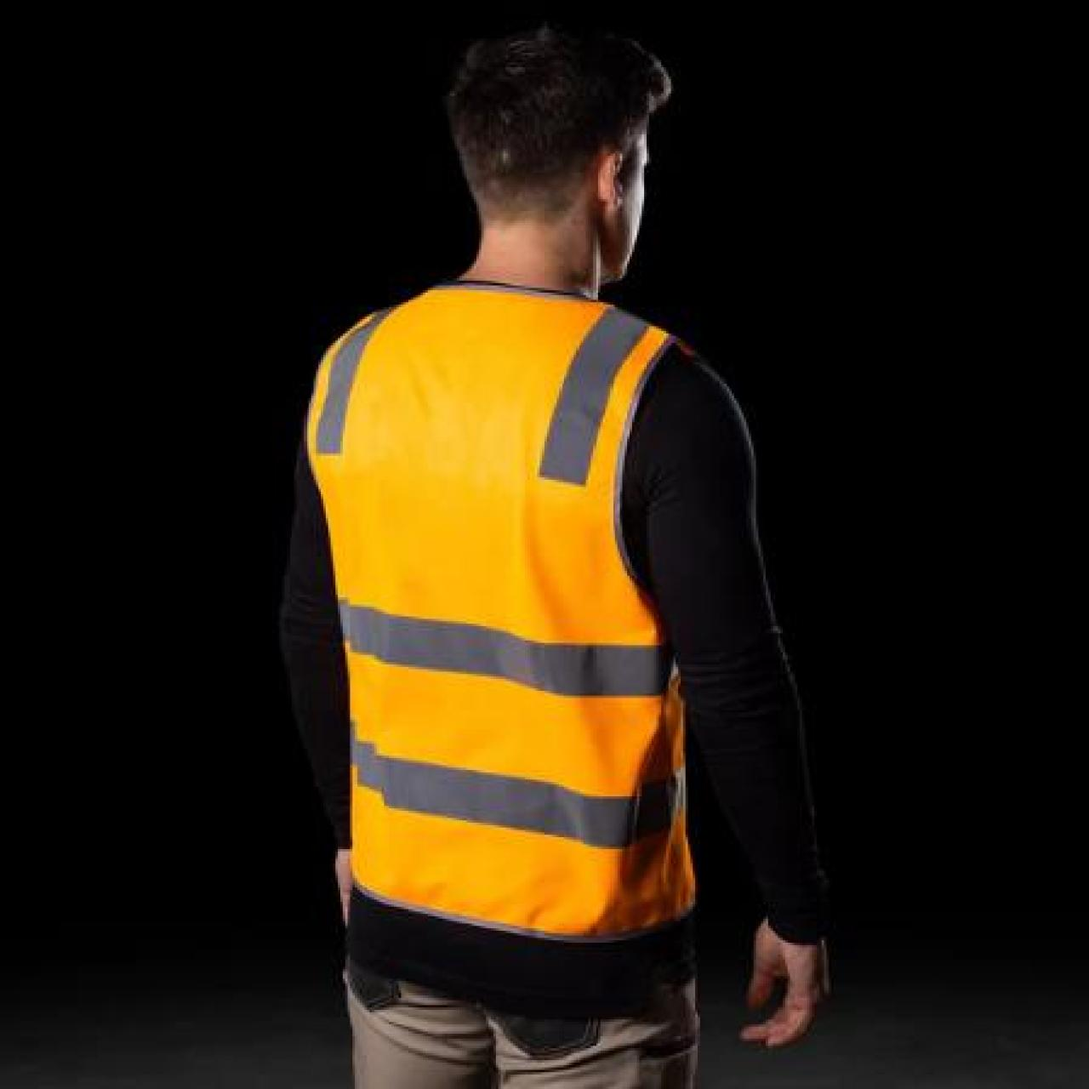Person: (228, 16, 894, 1089)
Safety_Vest: (277, 268, 778, 963)
